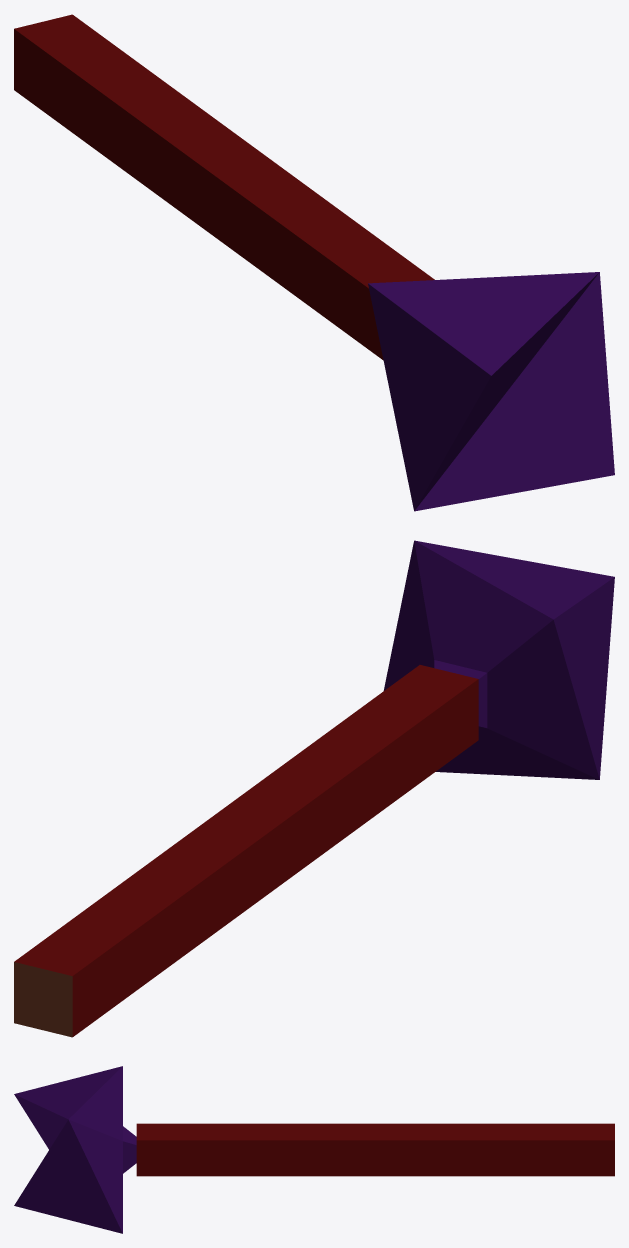
File: witch_weapon.glb
3 views of the same model, one above another, from view 1: azimuth 30°, elevation 25°; view 2: azimuth 150°, elevation 25°; view 3: azimuth 270°, elevation 25° (orthographic). The views are drawn at different scales.
Parts seen in each view (by area): view 1: witch_weapon; view 2: witch_weapon; view 3: witch_weapon.
Part boxes in pixels (left/top/right/bottom): witch_weapon: left=14, top=14, right=614, bottom=511; witch_weapon: left=14, top=540, right=614, bottom=1037; witch_weapon: left=14, top=1066, right=614, bottom=1233.
Bounding box in the file's own units: 0.7084 × 0.7084 × 3.37.
Materials: 1 (1 with a texture image).
